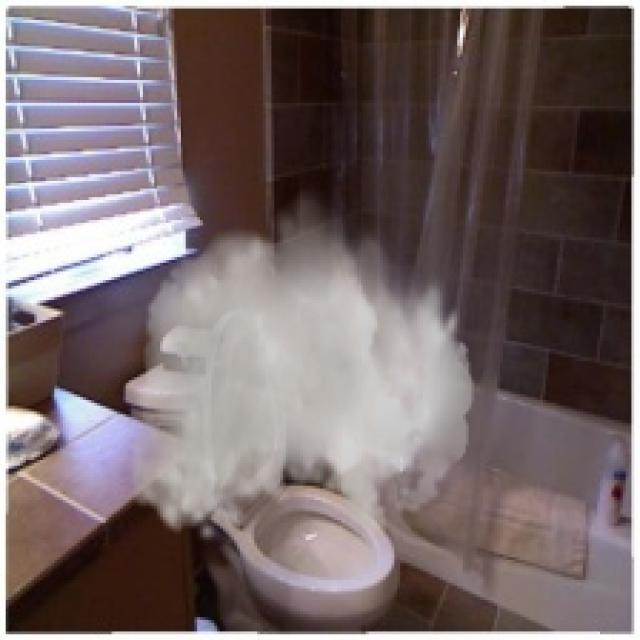Smoke: (128, 183, 474, 546)
